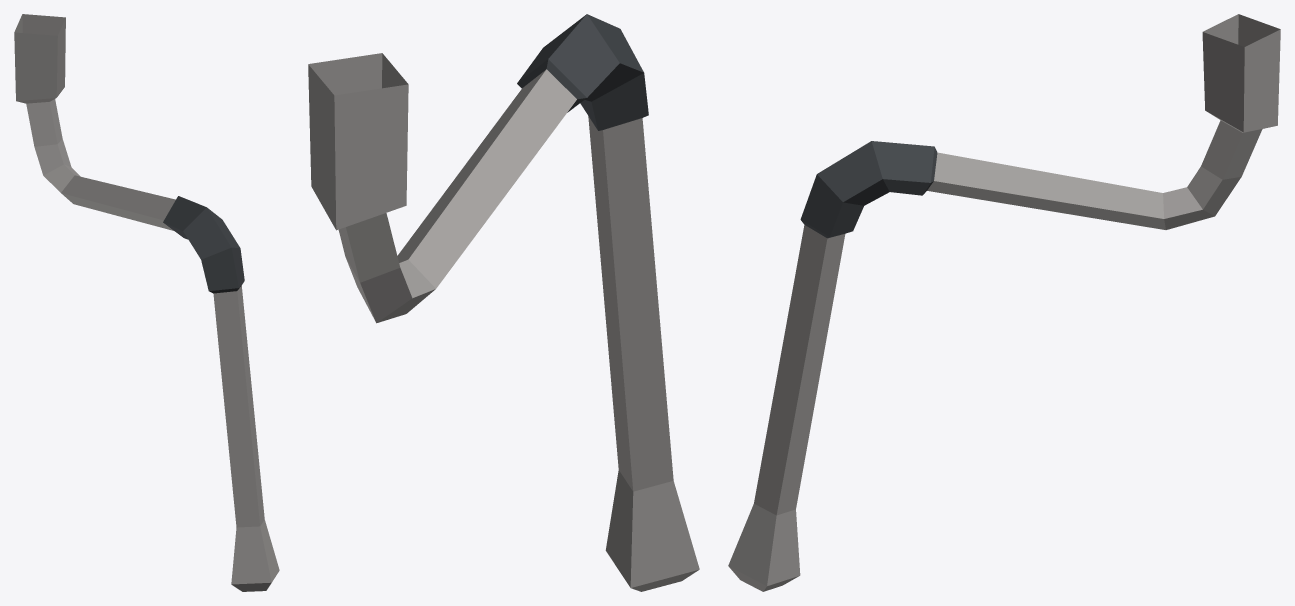
Rendered from SM_Prop_Cafe_Machine_01_SteamWand_02.obj.
3 renders of one model, left to right at view 1: azimuth 30°, elevation 25°; view 2: azimuth 150°, elevation 25°; view 3: azimuth 270°, elevation 25°, orthographic. The views are drawn at different scales.
Visible parts, largest first — view 1: SM_Prop_Cafe_Machine_01_SteamWand_02_0; view 2: SM_Prop_Cafe_Machine_01_SteamWand_02_0; view 3: SM_Prop_Cafe_Machine_01_SteamWand_02_0.
Boxes of the visible parts, x1,y1,x2,y2 form: SM_Prop_Cafe_Machine_01_SteamWand_02_0: (14,14,279,591); SM_Prop_Cafe_Machine_01_SteamWand_02_0: (308,14,699,591); SM_Prop_Cafe_Machine_01_SteamWand_02_0: (728,14,1280,591).
Bounding box in the file's own units: 0.033 × 0.1761 × 0.1632.
1 material, 1 textured.
